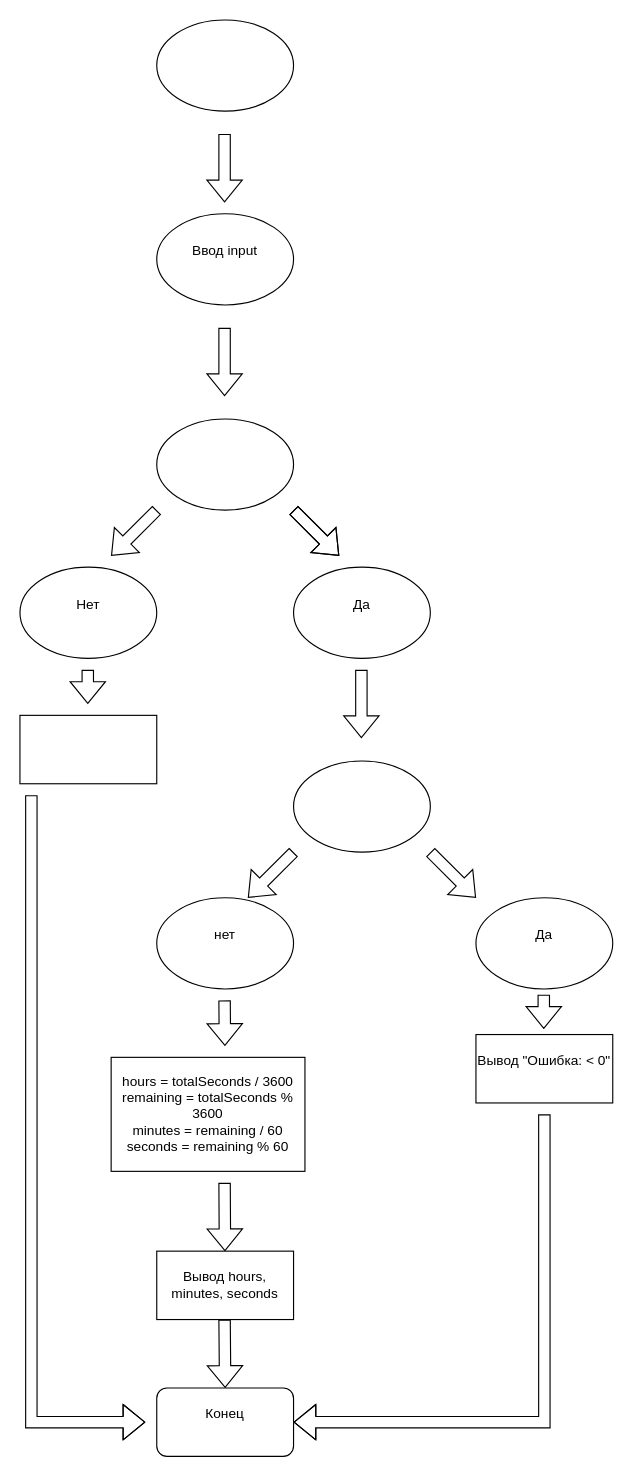
This 633x1476 diagram has some shape labels left out. The shapes that lost their labels are listed below. From the top down, each one's centre as x and y in pixels, then its label:
[225,65]: Начало
[225,464]: int.TryParse(input)?
[88,749]: Вывод "Ошибка ввода"
[361,806]: totalSeconds < 0?
